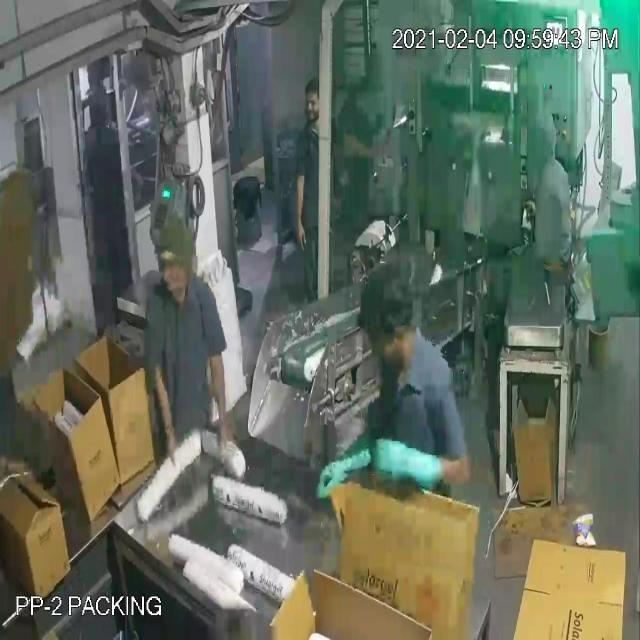gloves: (371, 425, 477, 509), (302, 415, 382, 509)
no-gloves: (140, 340, 183, 470), (205, 329, 235, 463), (335, 119, 391, 172), (292, 164, 316, 263)
